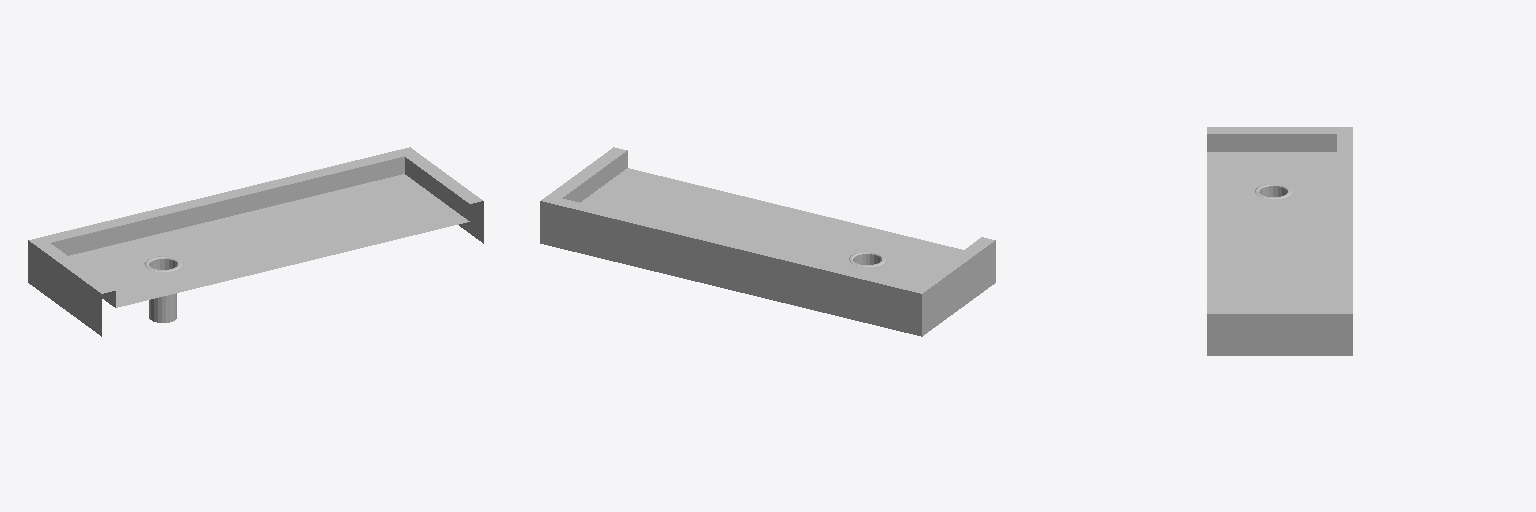
Rendered from holeEnd_left_B_1x3.obj.
3 renders of one model, left to right at view 1: azimuth 30°, elevation 25°; view 2: azimuth 150°, elevation 25°; view 3: azimuth 270°, elevation 25°, orthographic.
Visible parts, largest first — view 1: modelPanel2ViewSelectedSet holeEnd_left_B_1x3; view 2: modelPanel2ViewSelectedSet holeEnd_left_B_1x3; view 3: modelPanel2ViewSelectedSet holeEnd_left_B_1x3.
Boxes of the visible parts, x1,y1,x2,y2 form: modelPanel2ViewSelectedSet holeEnd_left_B_1x3: [28, 147, 483, 336]; modelPanel2ViewSelectedSet holeEnd_left_B_1x3: [540, 147, 995, 336]; modelPanel2ViewSelectedSet holeEnd_left_B_1x3: [1207, 127, 1352, 355].
Size of the model in its own units: 3 by 0.5318 by 1.